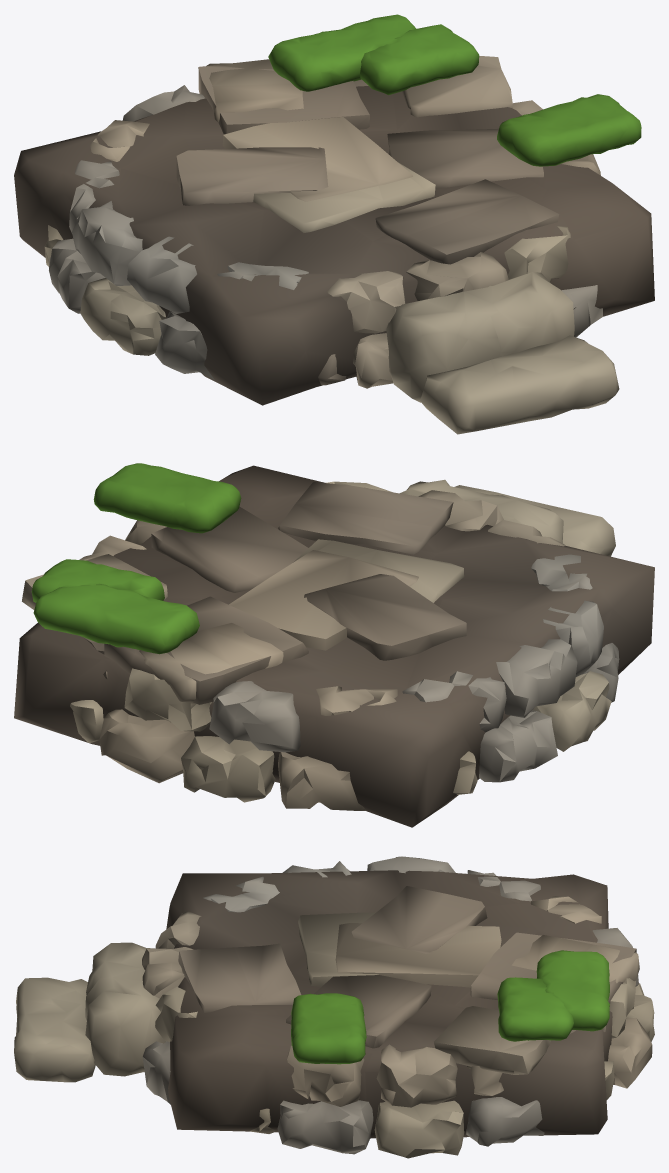
The model's file is glade_portal_plinth_b.glb.
3 renders of one model, top to bottom at view 1: azimuth 30°, elevation 25°; view 2: azimuth 150°, elevation 25°; view 3: azimuth 270°, elevation 25°, orthographic. The views are drawn at different scales.
Parts seen in each view (by area): view 1: glade_portal_plinth_b; view 2: glade_portal_plinth_b; view 3: glade_portal_plinth_b.
Boxes of the visible parts, box(x1,y1,x2,y2) form: glade_portal_plinth_b: box(14, 14, 654, 434); glade_portal_plinth_b: box(14, 463, 654, 827); glade_portal_plinth_b: box(14, 856, 654, 1158).
Bounding box in the file's own units: 7.37 × 1.98 × 8.79.
